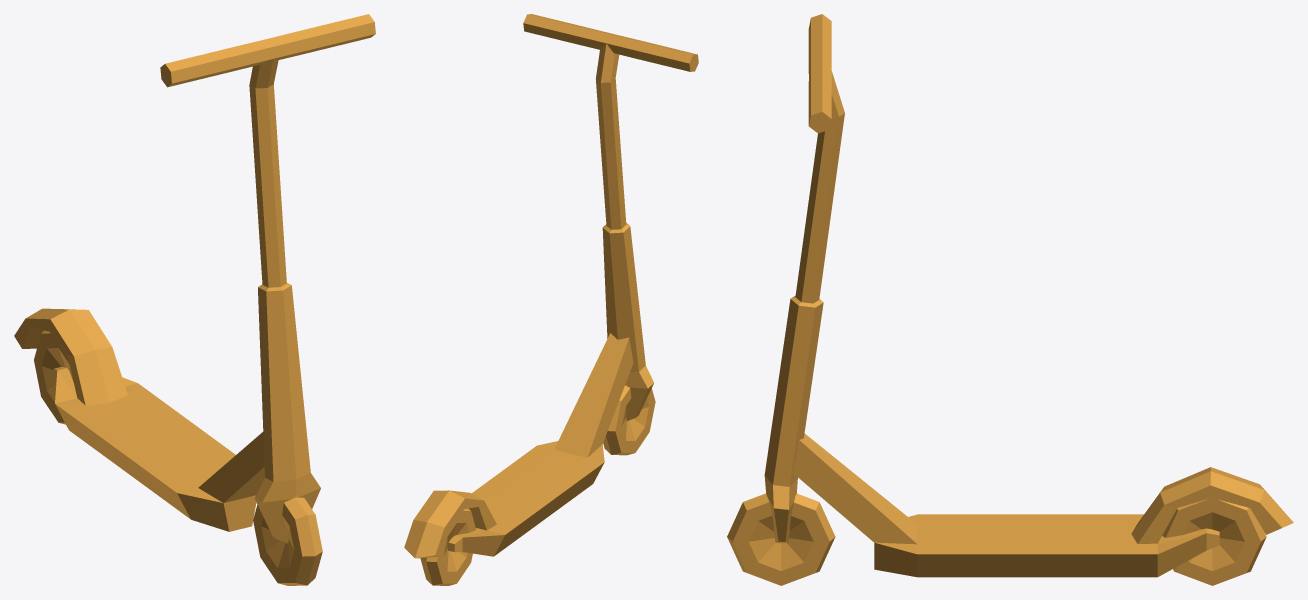
File: scooter-kick.glb
3 renders of one model, left to right at view 1: azimuth 30°, elevation 25°; view 2: azimuth 150°, elevation 25°; view 3: azimuth 270°, elevation 25°, orthographic. The views are drawn at different scales.
Parts seen in each view (by area): view 1: scooter-kick; view 2: scooter-kick; view 3: scooter-kick.
Part boxes in pixels (<box>): scooter-kick: <box>14,14,375,585</box>; scooter-kick: <box>404,14,698,585</box>; scooter-kick: <box>727,14,1293,585</box>.
Bounding box in the file's own units: 0.4695 × 1.17 × 1.15.
